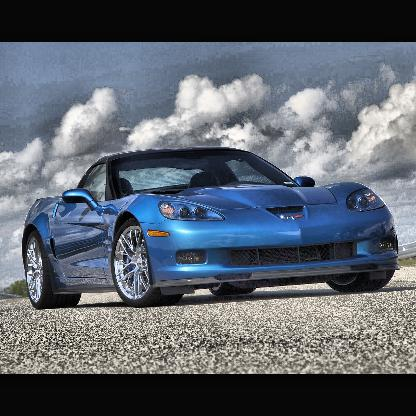Chevrolet Corvette ZR1 2012: (22, 146, 401, 310)
